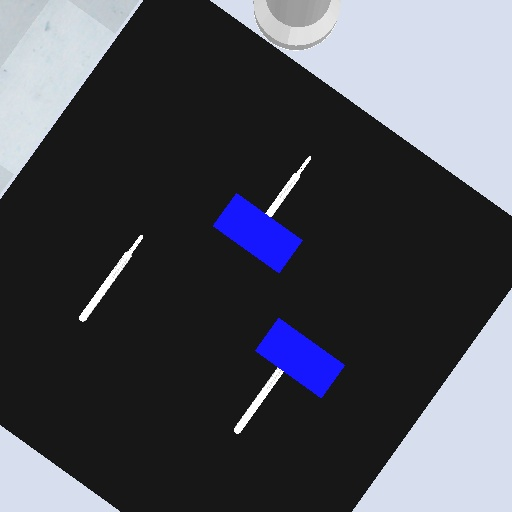bisturi: (76, 232, 145, 326), (230, 364, 287, 437), (263, 154, 316, 219)
